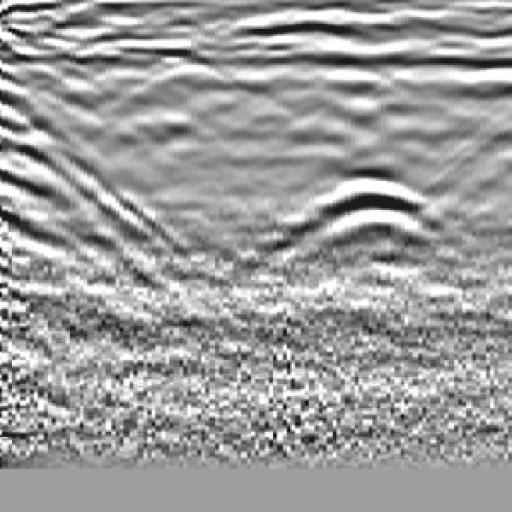metalic: (251, 162, 463, 274)
nonmetalic: (1, 37, 120, 285)
